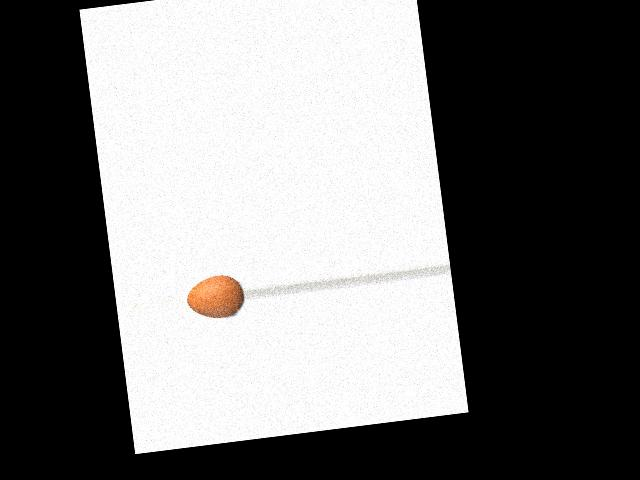egg: (185, 273, 246, 322)
